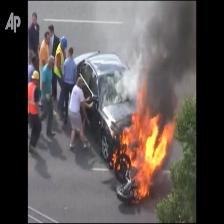fire: (124, 124, 167, 183)
smoke: (142, 8, 188, 115)
